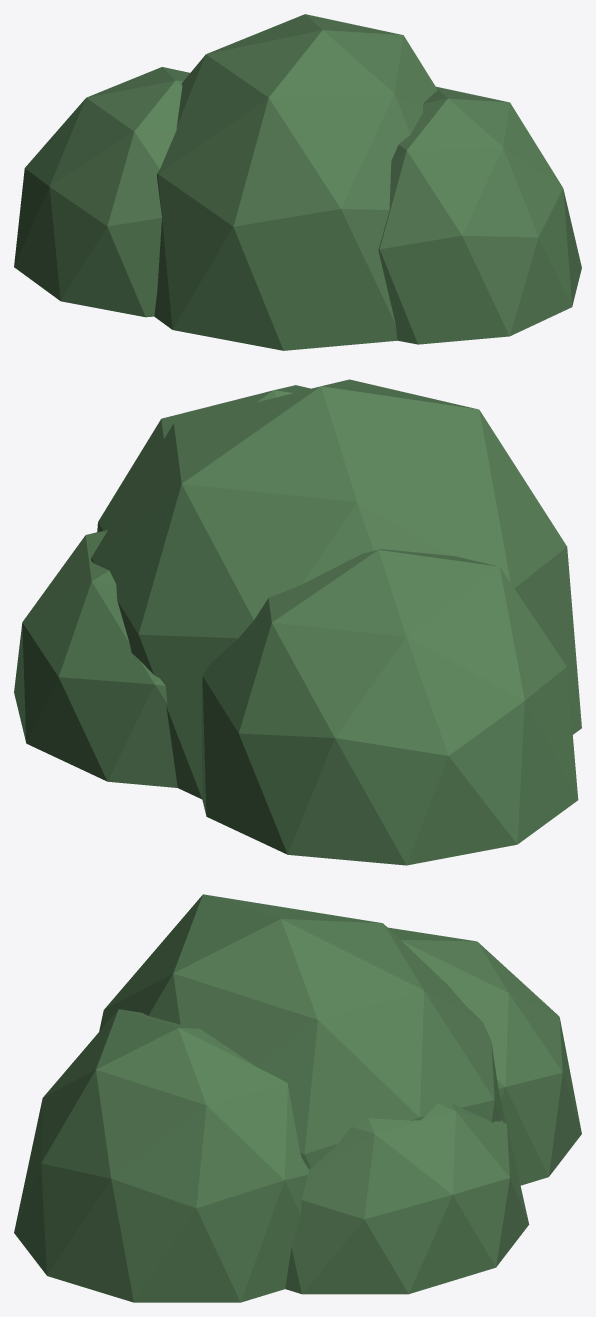
The model's file is bush.glb.
3 views of the same model, one above another, from view 1: azimuth 30°, elevation 25°; view 2: azimuth 150°, elevation 25°; view 3: azimuth 270°, elevation 25° (orthographic). The views are drawn at different scales.
Visible parts, largest first — view 1: Icosphere, Icosphere.003, Icosphere.001; view 2: Icosphere.001, Icosphere, Icosphere.002, Icosphere.003; view 3: Icosphere.003, Icosphere, Icosphere.002, Icosphere.001.
Boxes of the visible parts, <box> form: Icosphere: <box>154,14,437,350</box>; Icosphere.003: <box>378,86,581,344</box>; Icosphere.001: <box>14,67,189,317</box>; Icosphere.001: <box>201,549,578,865</box>; Icosphere: <box>91,379,581,799</box>; Icosphere.002: <box>14,529,177,787</box>; Icosphere.003: <box>97,385,310,531</box>; Icosphere.003: <box>14,1009,308,1302</box>; Icosphere: <box>99,894,505,1169</box>; Icosphere.002: <box>285,1102,529,1294</box>; Icosphere.001: <box>388,927,581,1185</box>.
Bounding box in the file's own units: 1.93 × 1.04 × 1.95.
